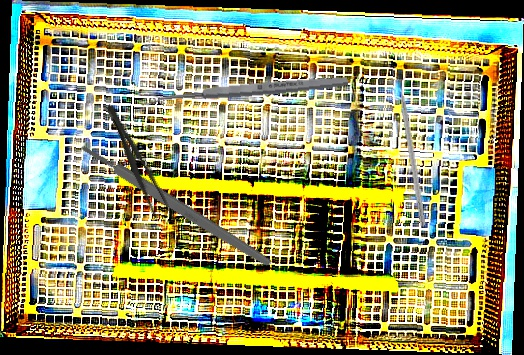Chopper: (395, 70, 435, 228)
Dressing Forceps: (98, 99, 179, 231)
Scalpel Handle: (78, 140, 275, 271)
Surgical Spoon: (143, 74, 349, 106)
